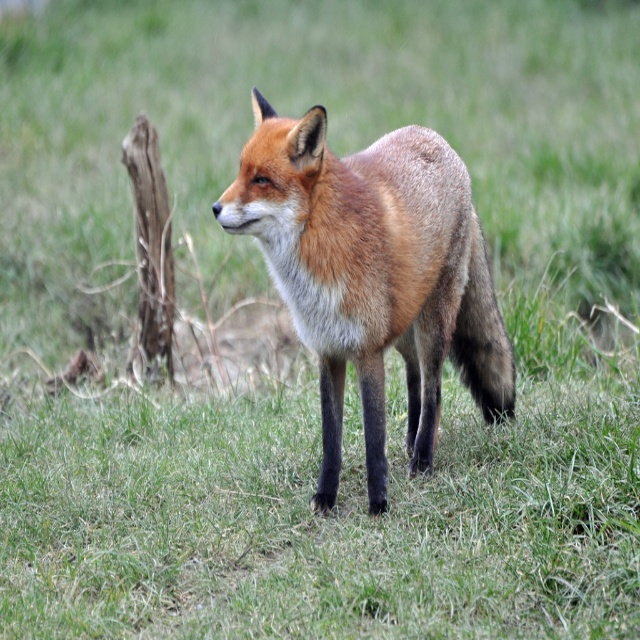Fox: (209, 82, 514, 519)
